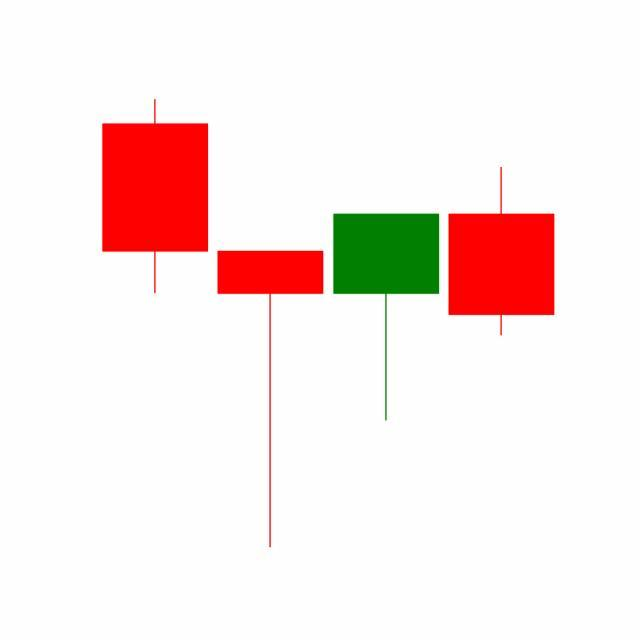Hanging Man: (329, 212, 445, 424)
